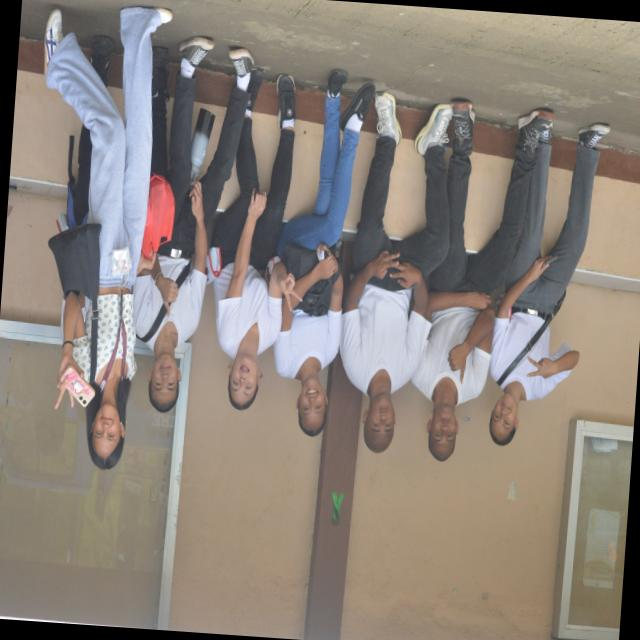person: (45, 6, 172, 468), (412, 99, 553, 460), (133, 36, 254, 411), (341, 91, 450, 451), (490, 123, 609, 380), (212, 68, 295, 409), (277, 69, 375, 294)
